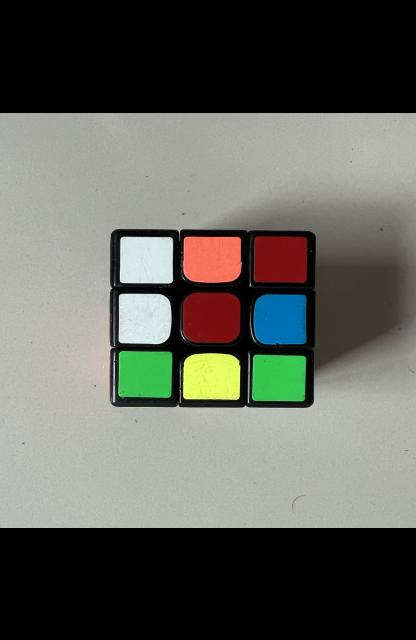Blue: (253, 293, 307, 344)
Green: (118, 350, 173, 397), (252, 354, 307, 400)
Orange: (183, 236, 242, 282)
Red: (182, 292, 240, 343), (253, 236, 308, 282)
White: (118, 293, 172, 344), (119, 236, 173, 282)
Yellow: (183, 352, 240, 399)
